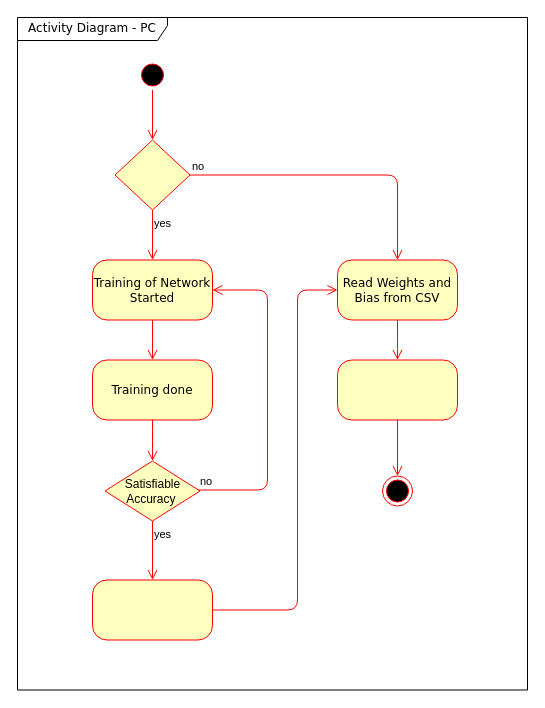
The diagram is 545 pixels wide and 708 high, and some of its shapes have lost their labels. The shapes that lost their labels are listed below. From the top down, each one's centre as x and y in pixels, then its label:
point (152, 174): Training Needed
point (397, 389): Export to File Structure
point (152, 609): Export Weights and Bias to CSV
